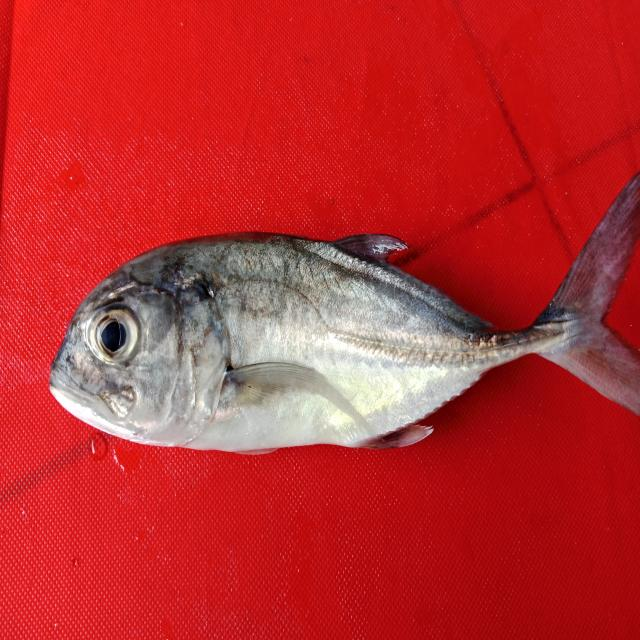ikan: (39, 164, 632, 470)
